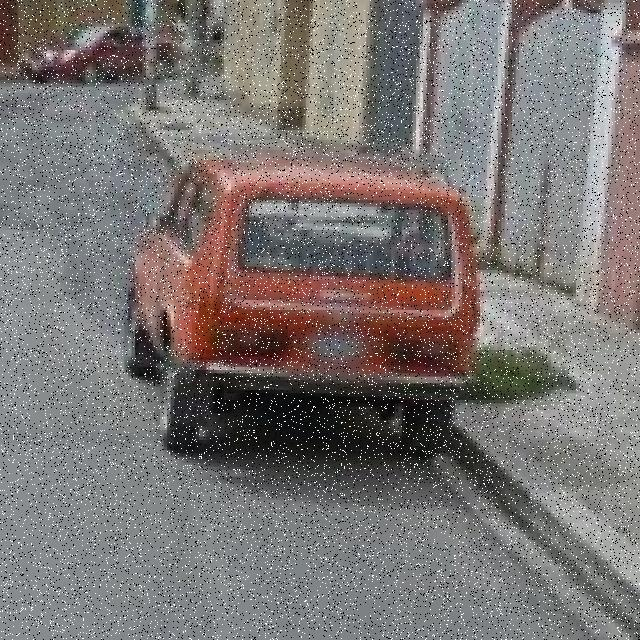cars: (141, 145, 487, 472)
